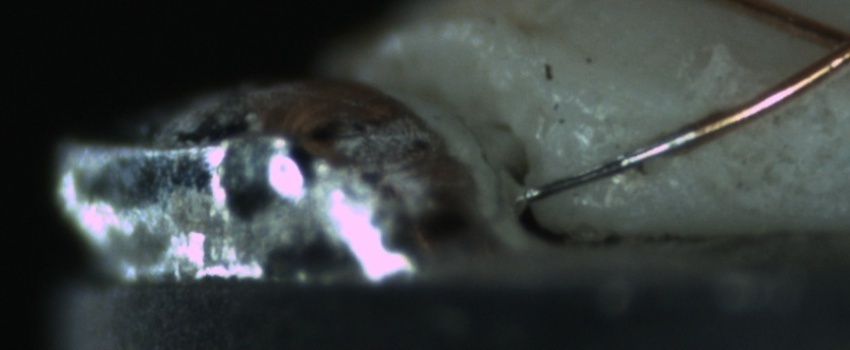CL: (800, 12, 850, 78)
TS: (525, 128, 692, 201)
TTCW: (520, 109, 731, 204)
